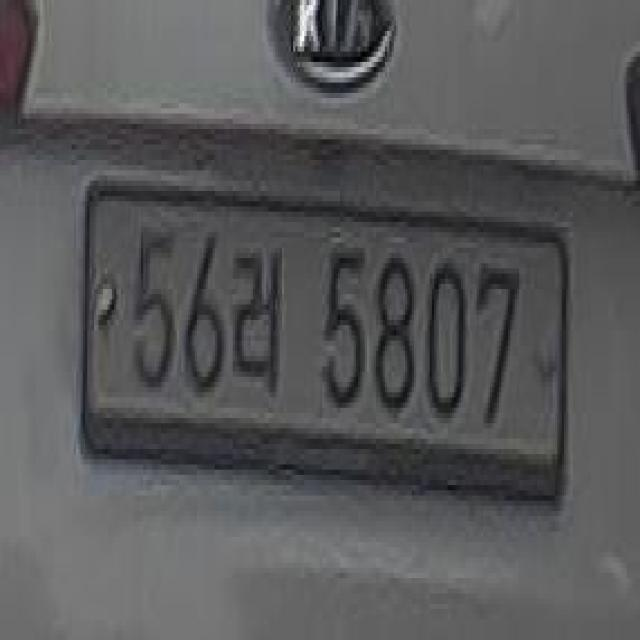illegal_plate: (81, 167, 575, 530)
